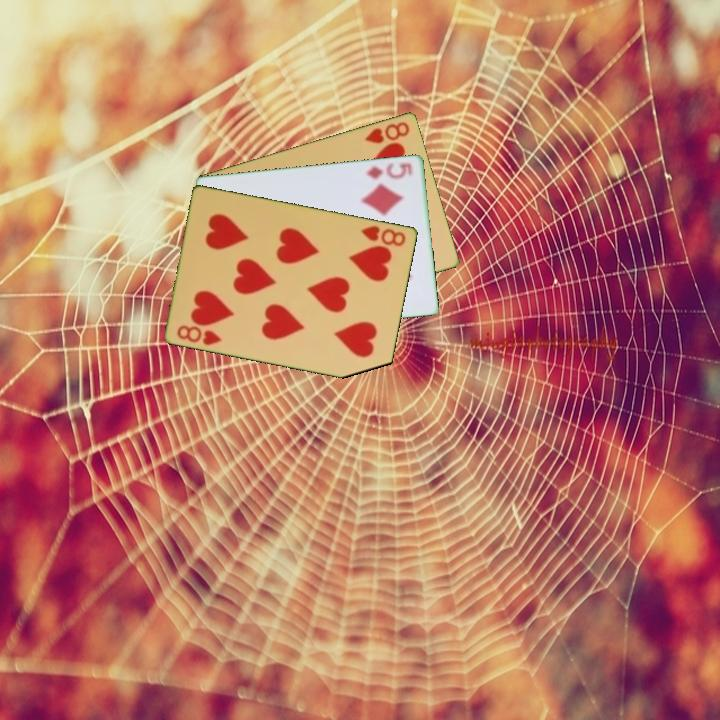5d: (363, 159, 415, 182)
8h: (361, 118, 413, 146), (357, 222, 409, 249), (174, 321, 225, 348)
